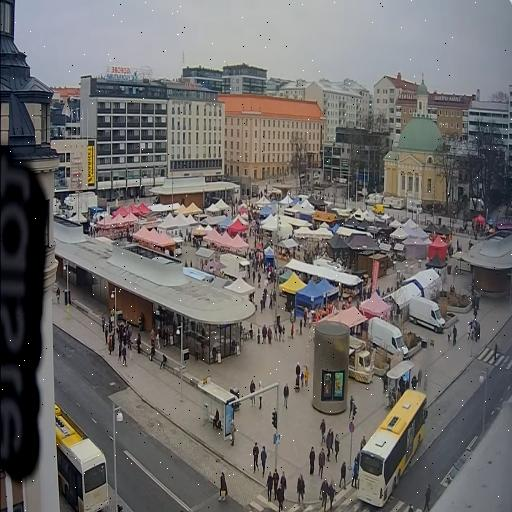Bus: (357, 389, 427, 507), (54, 403, 107, 511)
Delivery: (367, 317, 407, 359), (409, 297, 444, 332), (348, 337, 372, 383)
